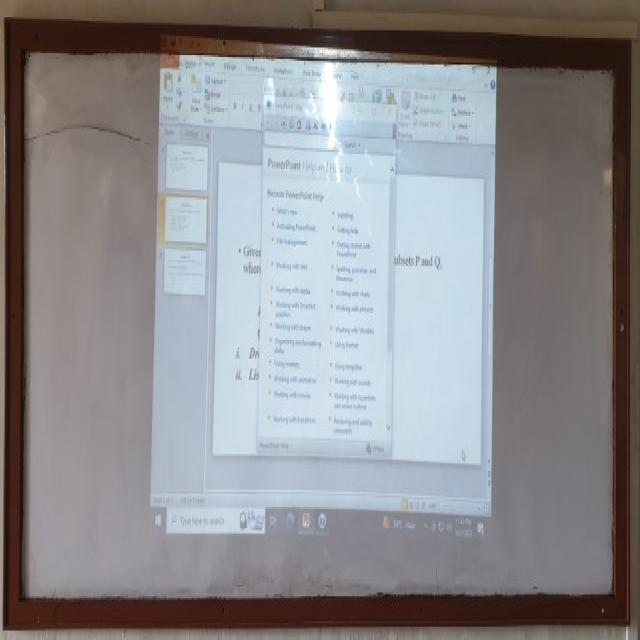Slide: (144, 38, 498, 547)
White-board: (12, 30, 624, 616)
